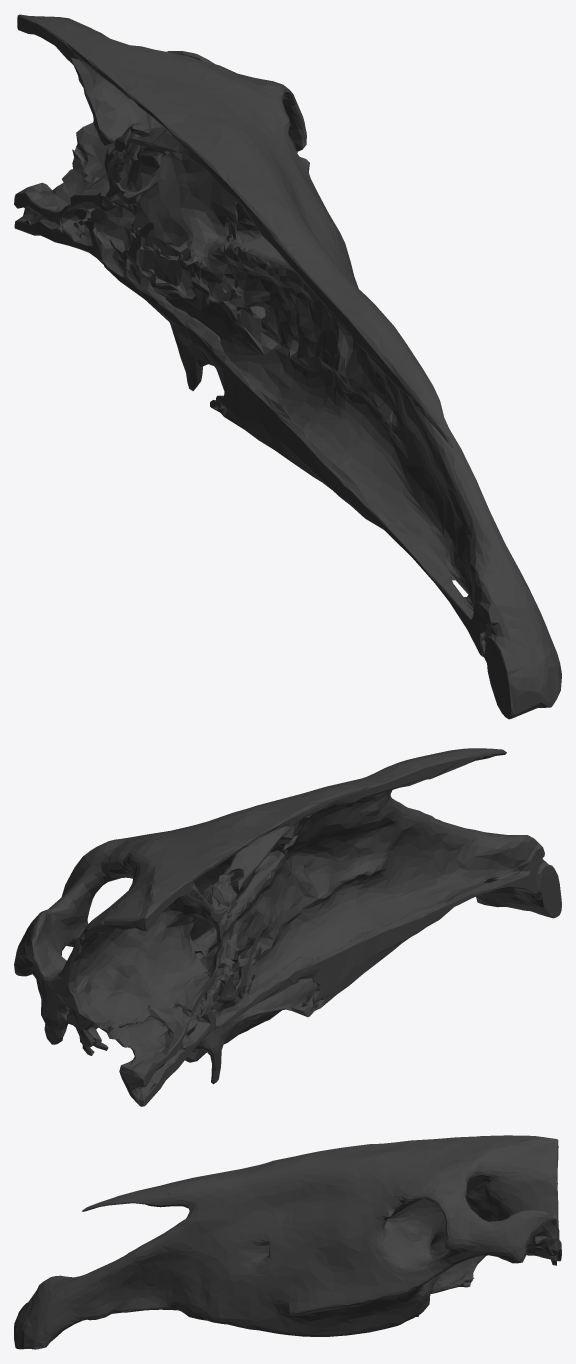
Rendered from L_maxilla_clone.glb.
3 renders of one model, top to bottom at view 1: azimuth 30°, elevation 25°; view 2: azimuth 150°, elevation 25°; view 3: azimuth 270°, elevation 25°, orthographic. The views are drawn at different scales.
Visible parts, largest first — view 1: L_maxilla_clone; view 2: L_maxilla_clone; view 3: L_maxilla_clone.
Part boxes in pixels (x1,y1,x2,y2): L_maxilla_clone: (14, 14, 561, 719); L_maxilla_clone: (14, 748, 561, 1106); L_maxilla_clone: (14, 1135, 561, 1349).
Bounding box in the file's own units: 1.79 × 3.23 × 7.94.
Materials: 1 (1 with a texture image).
